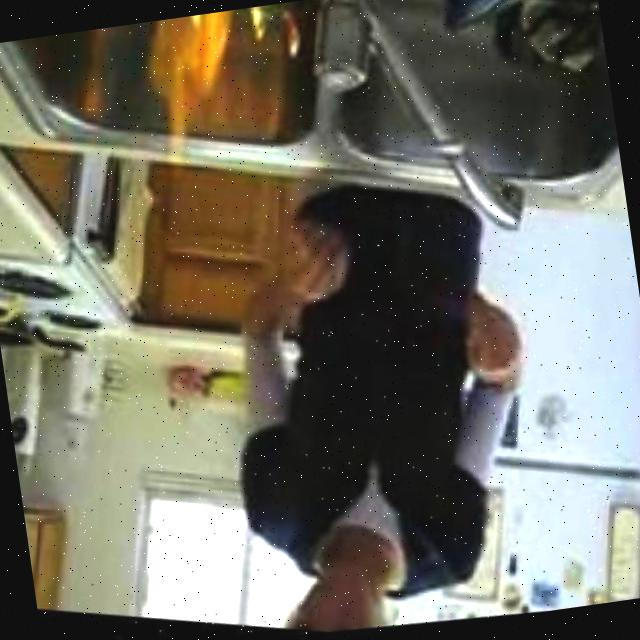fire: (121, 0, 327, 179)
